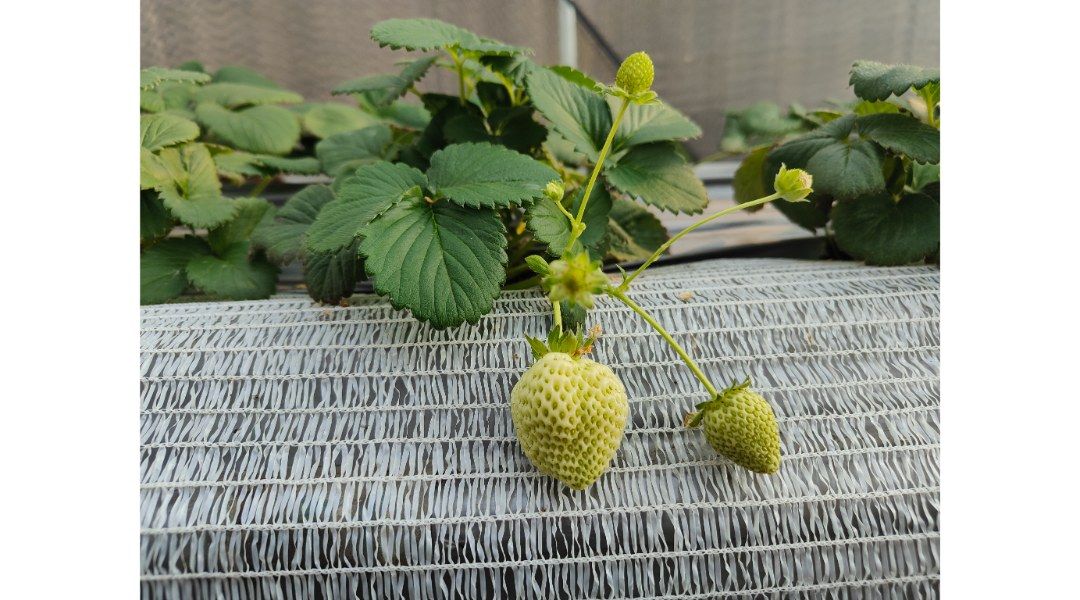berry: (500, 325, 636, 495), (691, 365, 790, 480), (773, 155, 831, 216), (601, 47, 663, 103), (542, 251, 601, 307)
strain: (632, 193, 763, 281), (628, 302, 716, 398), (567, 114, 624, 238)
